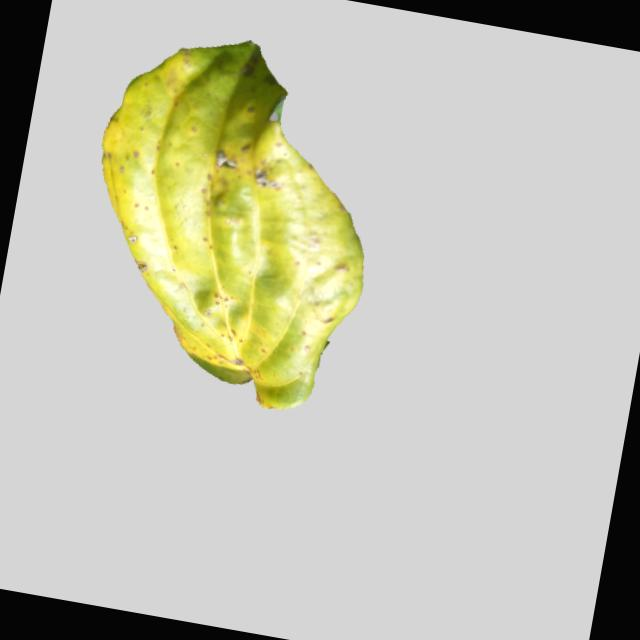yellow-mottle-virus: (55, 21, 399, 414)
